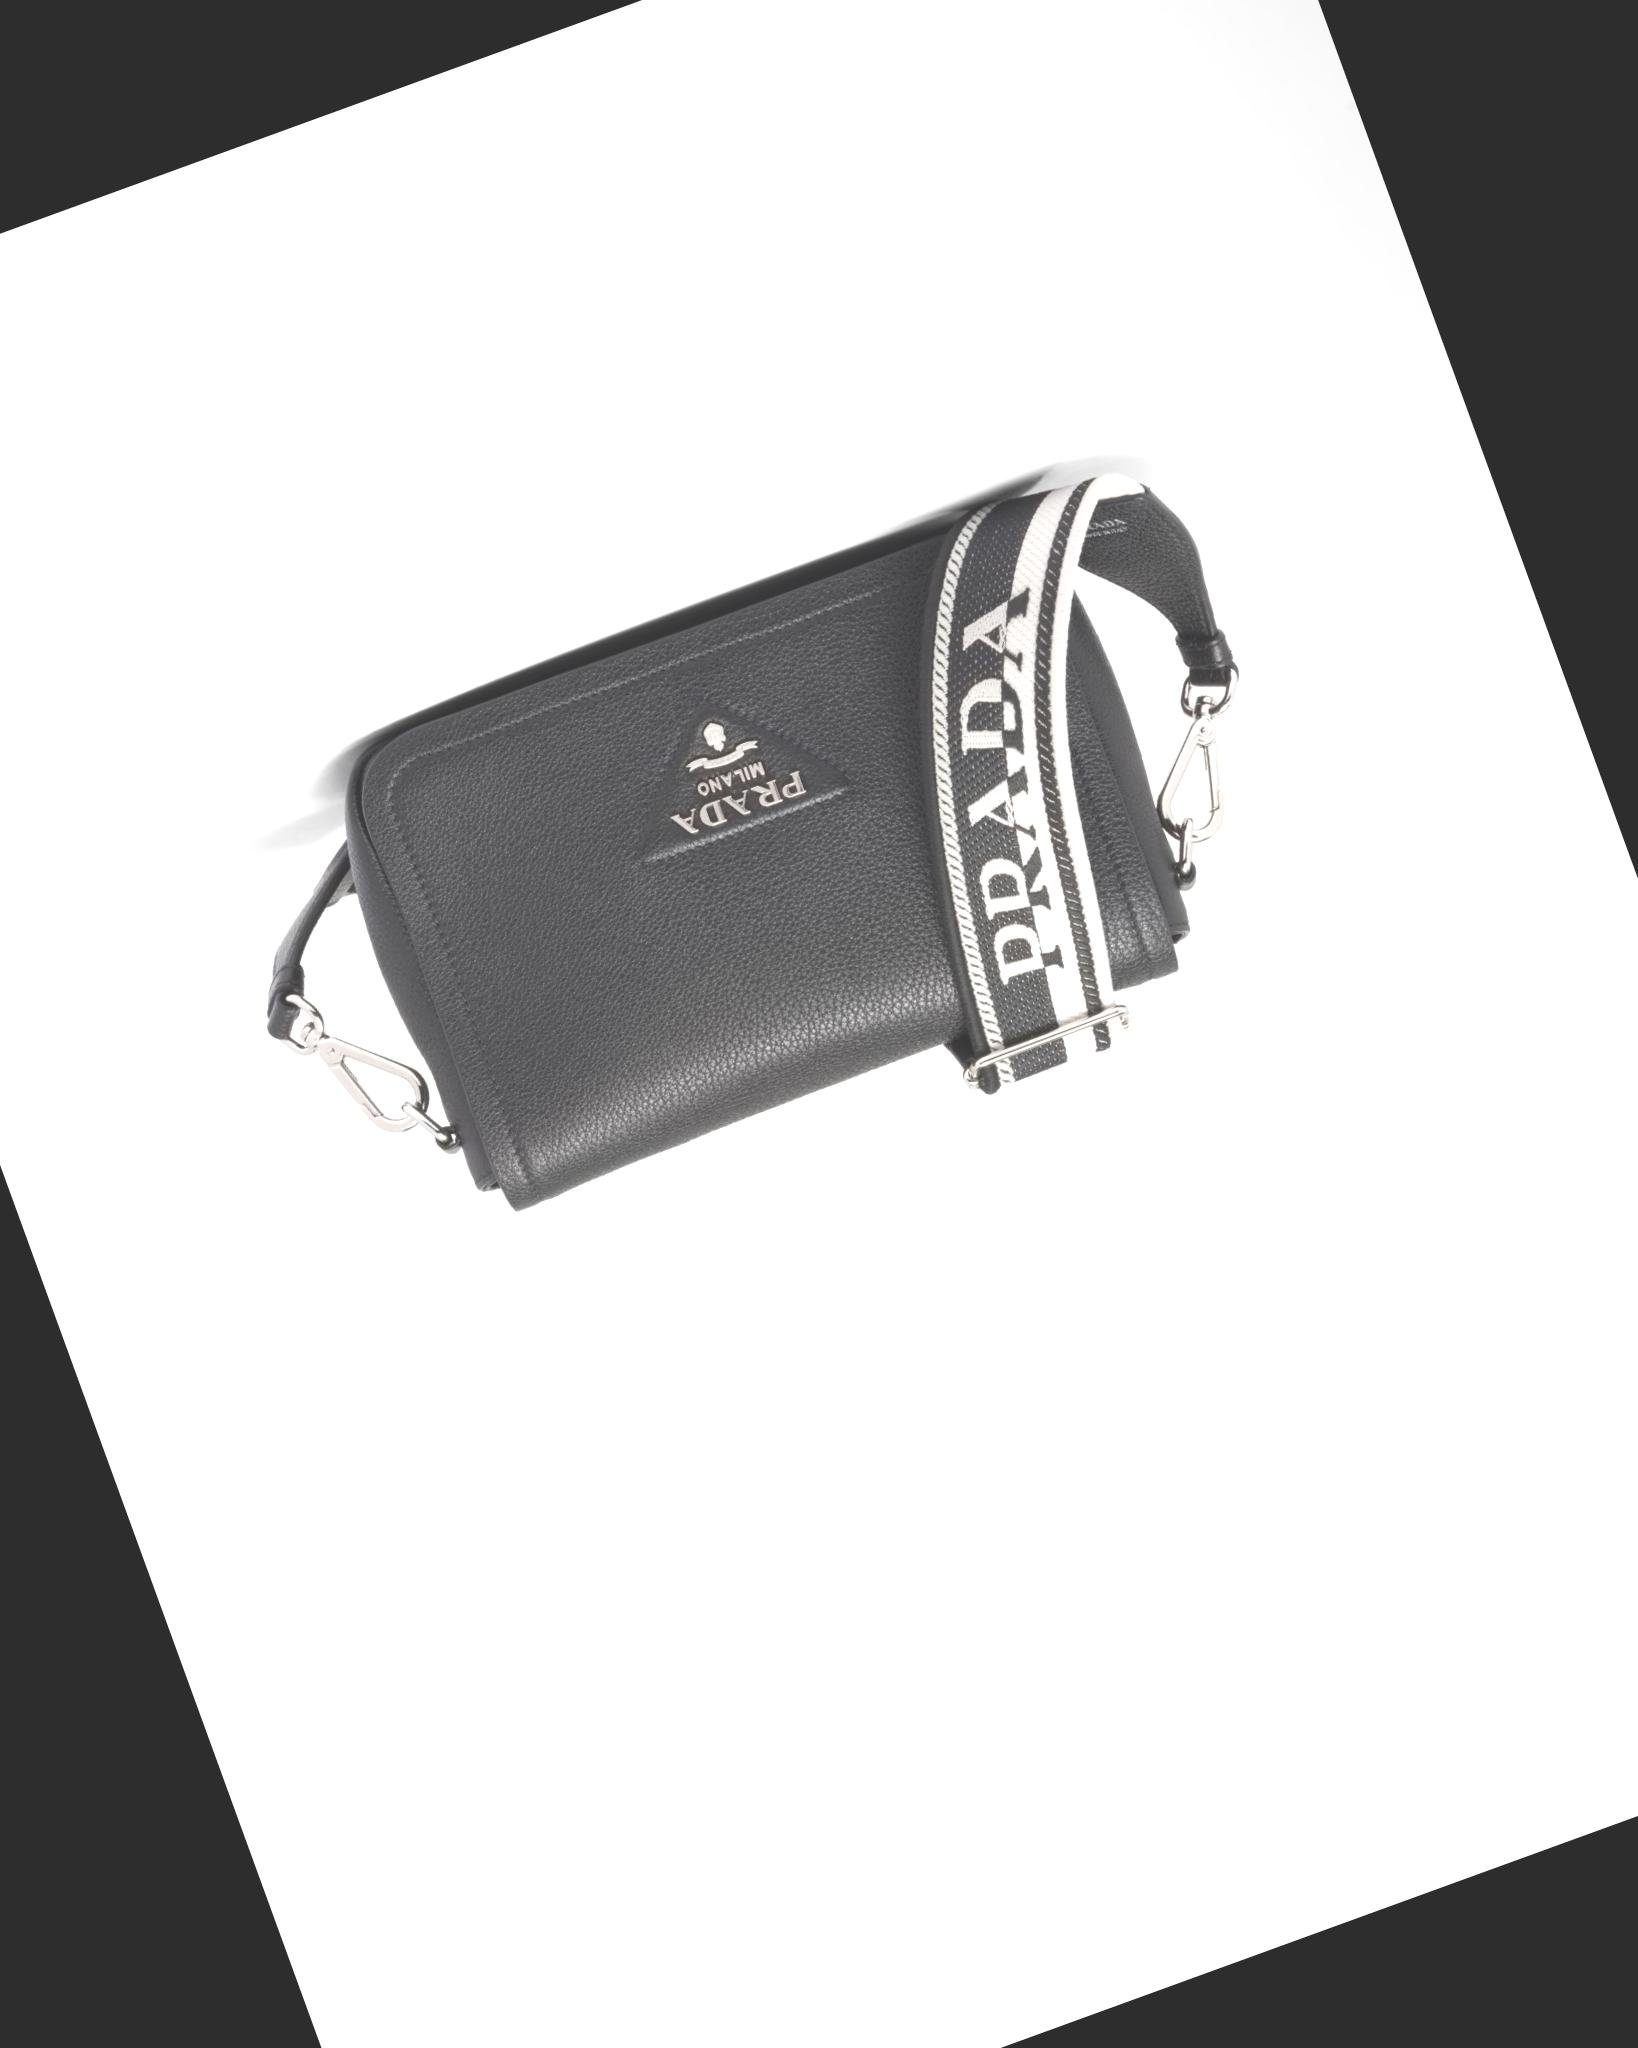PRADA: (588, 655, 859, 868)
